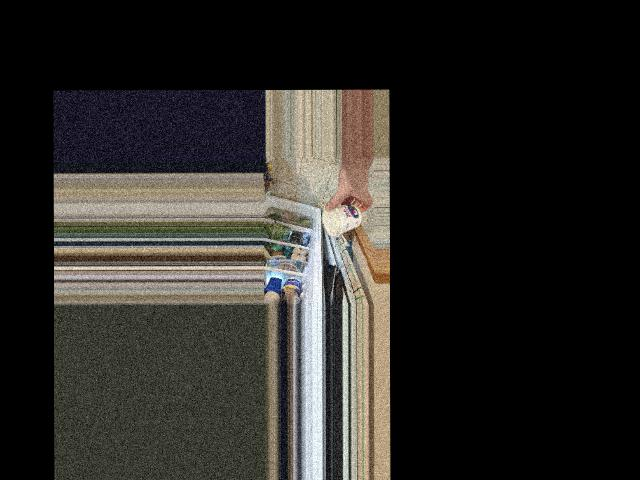cotage: (329, 200, 361, 239)
